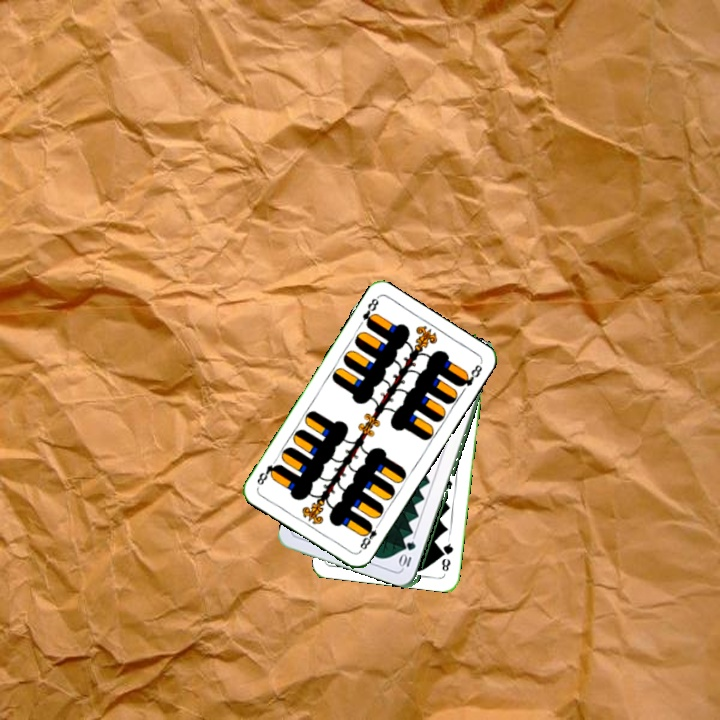E8: (355, 518, 383, 554), (358, 293, 382, 330)
G10: (398, 537, 418, 571)
G8: (438, 535, 455, 574)
